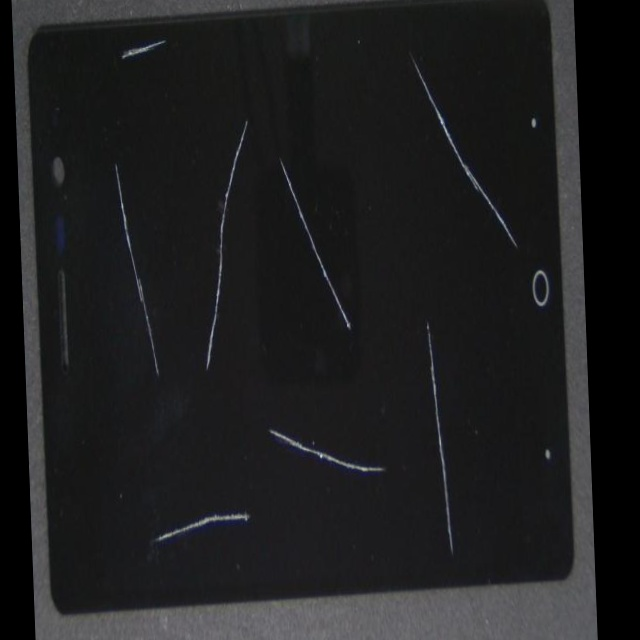scratch: (262, 208, 516, 640), (180, 226, 357, 640), (223, 232, 499, 437), (94, 310, 343, 489), (321, 172, 584, 282), (115, 295, 224, 480), (113, 33, 251, 97)
